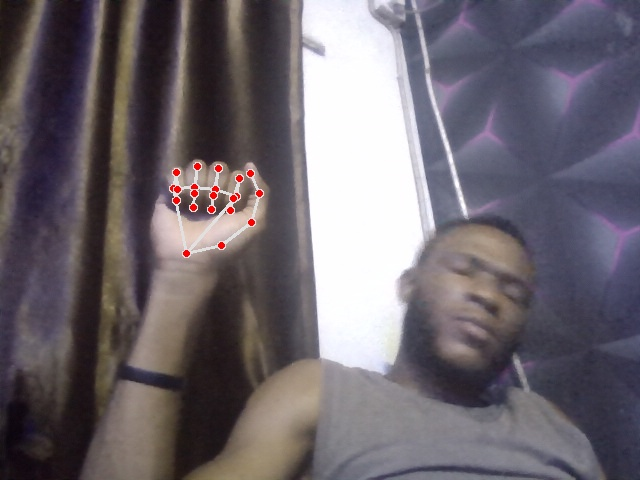number0: (148, 156, 272, 265)
